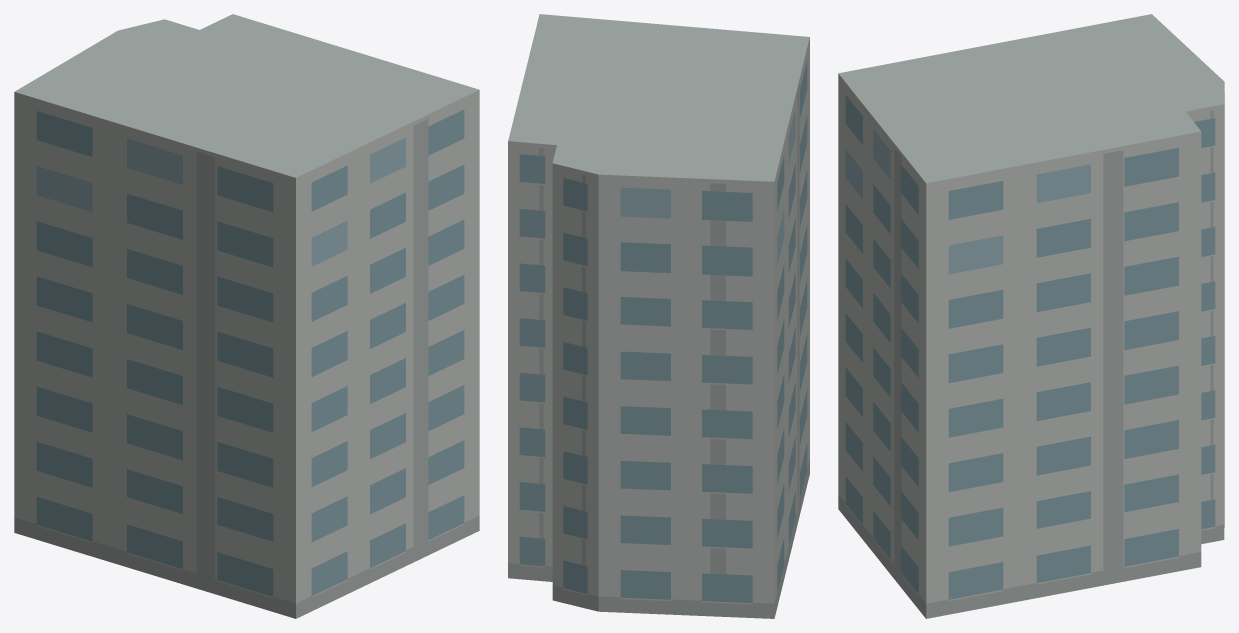
The model's file is survey-upis-32497915.glb.
The picture shows the model from 3 angles, left to right: view 1: azimuth 30°, elevation 25°; view 2: azimuth 150°, elevation 25°; view 3: azimuth 270°, elevation 25°; orthographic projection.
Parts seen in each view (by area): view 1: survey-upis-32497915.tmp; view 2: survey-upis-32497915.tmp; view 3: survey-upis-32497915.tmp.
Boxes of the visible parts, <box> form: survey-upis-32497915.tmp: <box>14,14,479,618</box>; survey-upis-32497915.tmp: <box>508,14,809,618</box>; survey-upis-32497915.tmp: <box>838,14,1224,618</box>.
Bounding box in the file's own units: 21.75 × 26.09 × 20.98.
